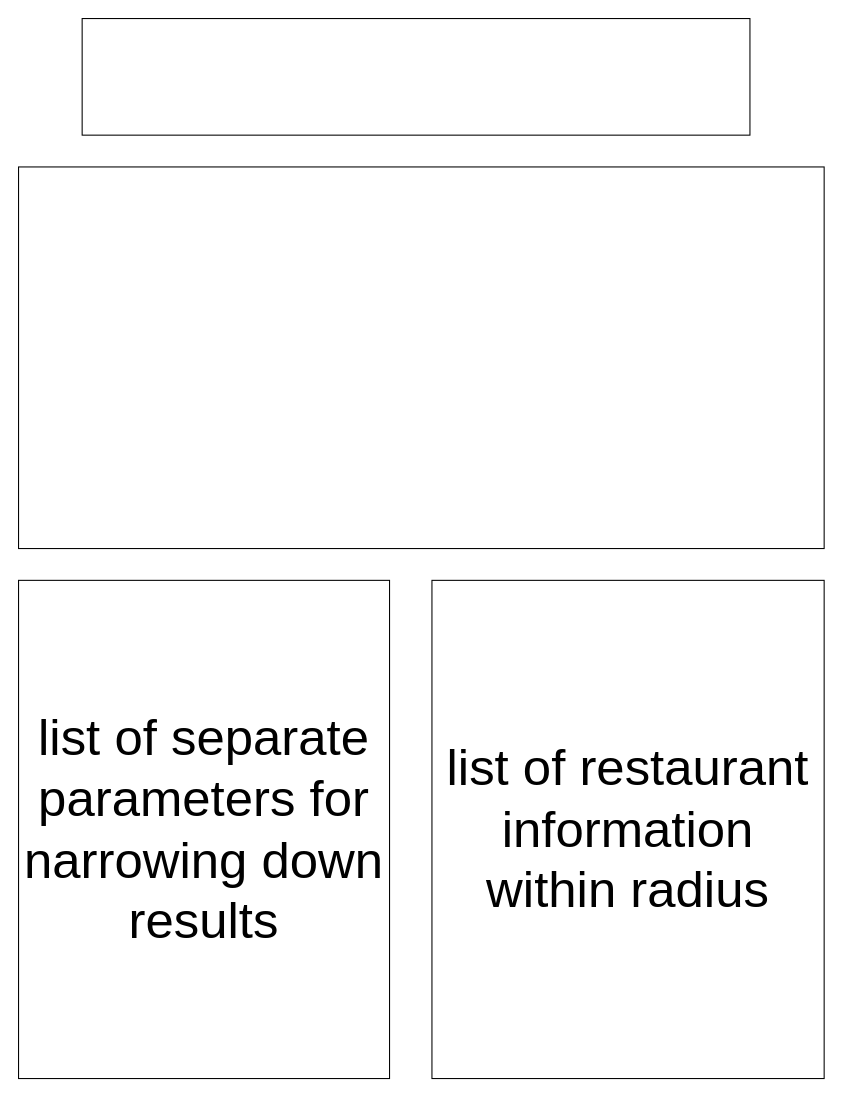
This 843x1097 diagram has some shape labels left out. Each missing label, with the centre of its shape:
map with radius: (x=420, y=357)
title: (x=415, y=76)
